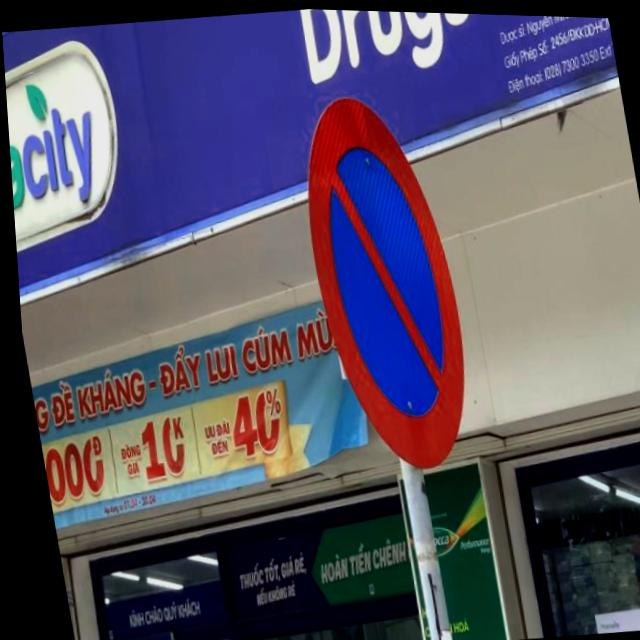Cam do xe: (283, 83, 480, 478)
